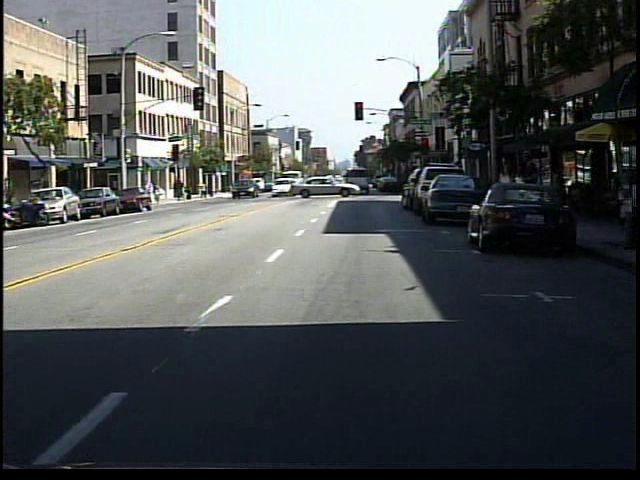person: (512, 151, 540, 241), (495, 159, 517, 235), (154, 179, 167, 205)
